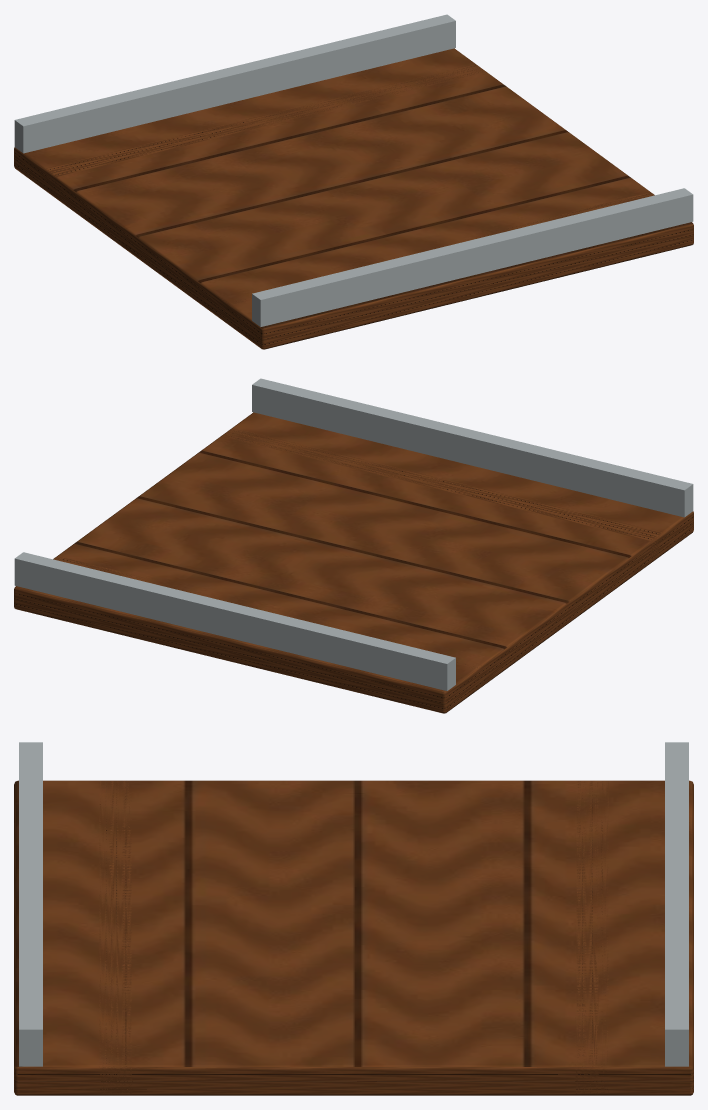
The model's file is modular-survival-base-builder-roof-flat-drained-c2a90fbf__24172.glb.
3 views of the same model, one above another, from view 1: azimuth 30°, elevation 25°; view 2: azimuth 150°, elevation 25°; view 3: azimuth 270°, elevation 25° (orthographic). The views are drawn at different scales.
Visible parts, largest first — view 1: roof-flat-drained; view 2: roof-flat-drained; view 3: roof-flat-drained.
Part boxes in pixels (<box>): roof-flat-drained: <box>14,14,693,349</box>; roof-flat-drained: <box>14,378,693,713</box>; roof-flat-drained: <box>14,742,693,1095</box>.
Bounding box in the file's own units: 2 × 0.22 × 2.
2 materials, 1 textured.
